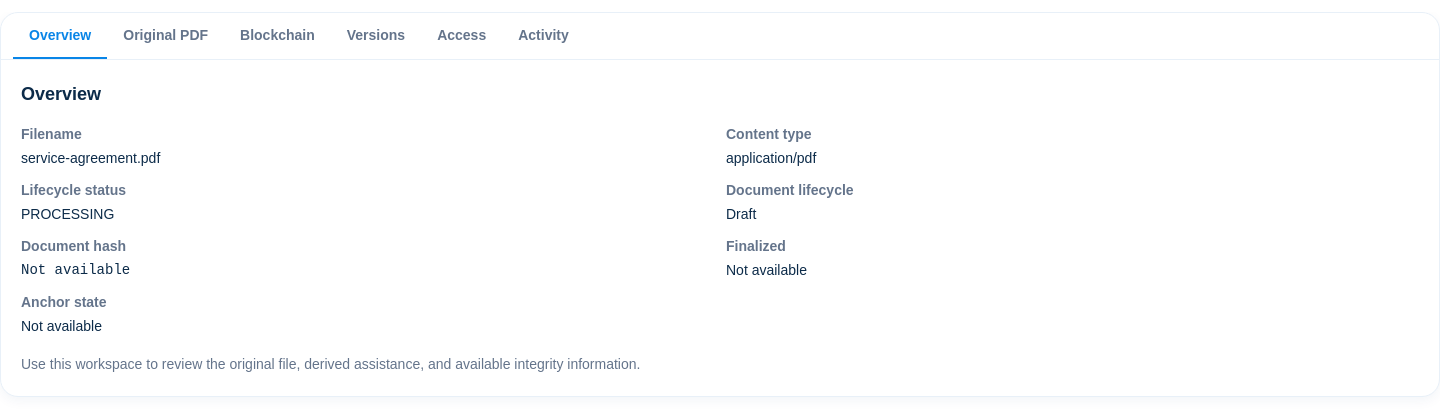
Scenario: DocumentWorkspace › explains unavailable data without inventing controls or restricted workflow actions
Click the tab "Original PDF".
click(166, 36)  # box left=107, top=13, right=224, bottom=59
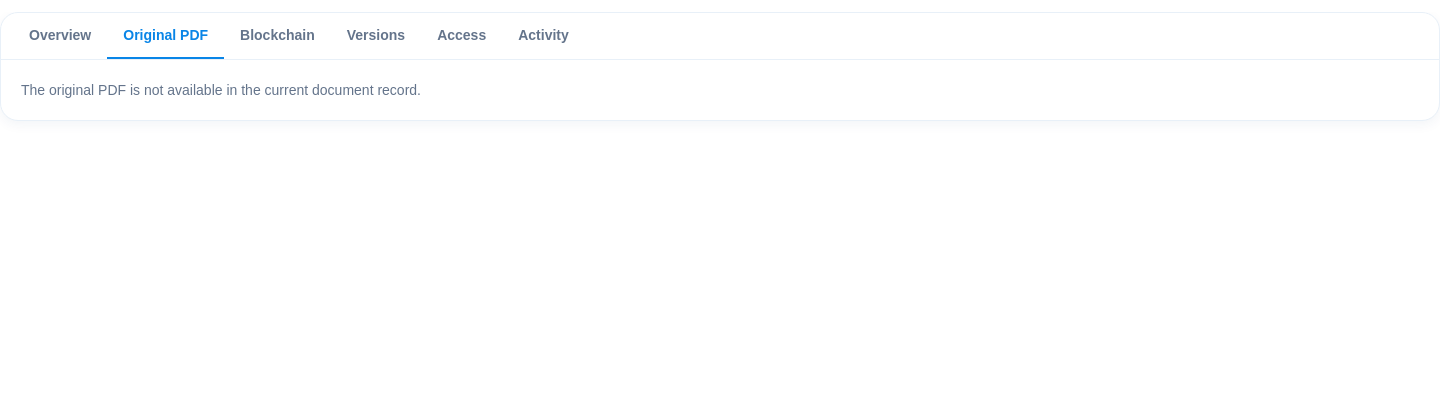
Check: the text "original PDF is not available" is shown, box left=21, top=82, right=421, bottom=98
Click the tab "Blockchain".
click(277, 36)  # box left=224, top=13, right=331, bottom=59
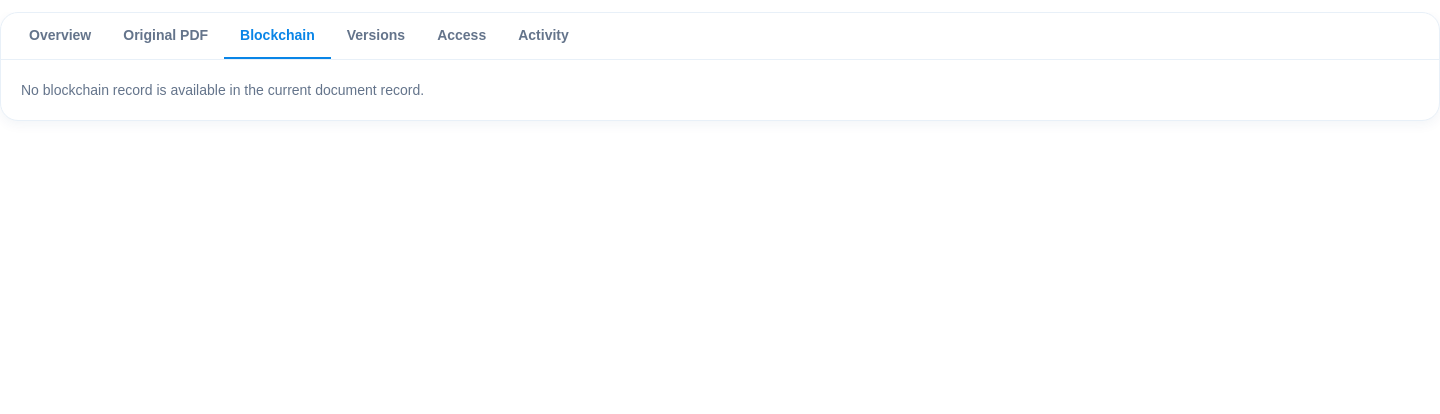
Check: the text "Finalized" is not shown
Check: the text "No blockchain record is available" is shown, box left=21, top=82, right=424, bottom=98
